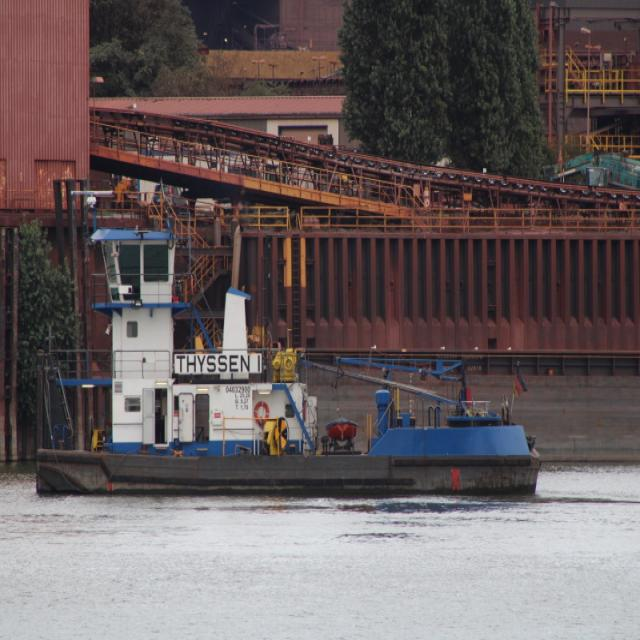tugboat: (34, 221, 546, 508)
